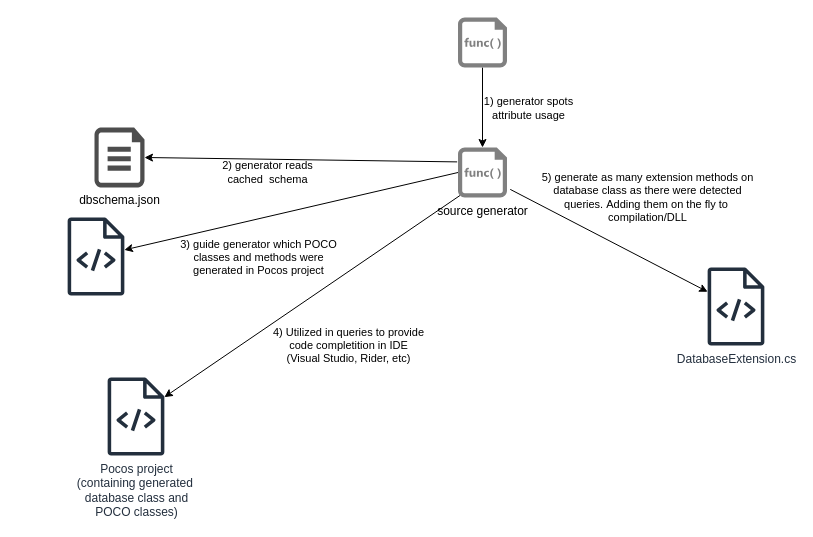
This 813x537 diagram has some shape labels left out. Each missing label, with the centre of its shape:
"attribute [GenerateQueries] used on some class in your project" belongs at point (482, 42).
"SogePocoSqlServerConfig.cs" belongs at point (95, 256).
